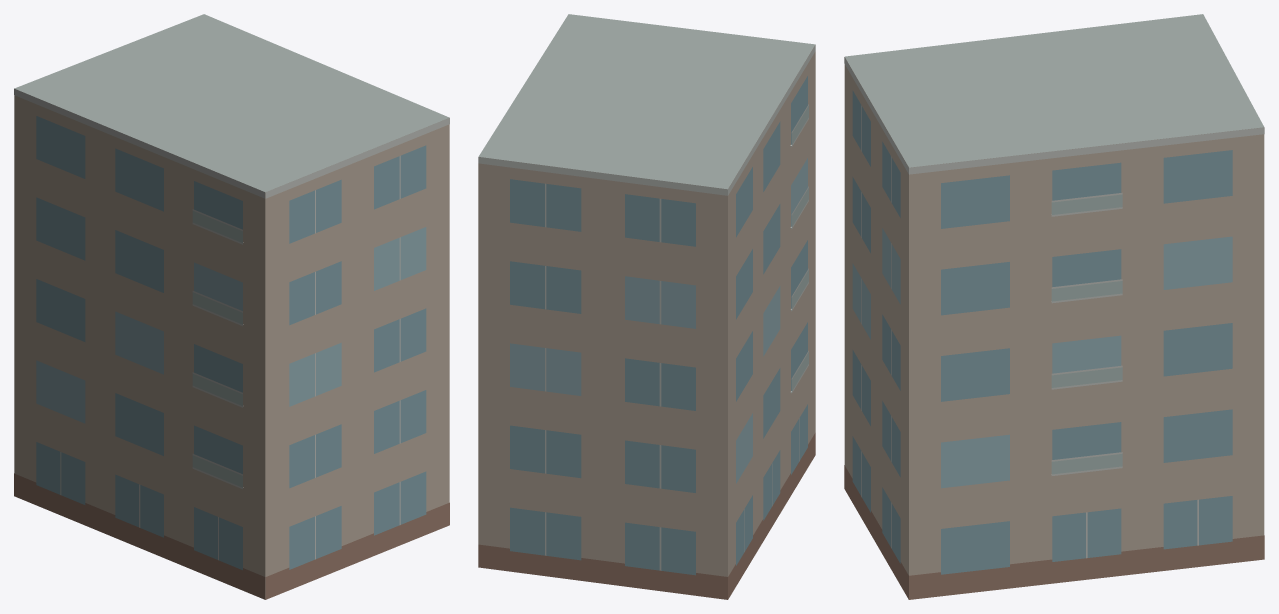
The model's file is survey-upis-32640674.glb.
3 views of the same model, side by side, from view 1: azimuth 30°, elevation 25°; view 2: azimuth 150°, elevation 25°; view 3: azimuth 270°, elevation 25° (orthographic). The views are drawn at different scales.
Visible parts, largest first — view 1: survey-upis-32640674.tmp; view 2: survey-upis-32640674.tmp; view 3: survey-upis-32640674.tmp.
Part boxes in pixels (x1=…): survey-upis-32640674.tmp: x1=14, y1=14, x2=449, y2=599; survey-upis-32640674.tmp: x1=478, y1=14, x2=815, y2=599; survey-upis-32640674.tmp: x1=844, y1=14, x2=1264, y2=599.
Size of the model in its own units: 11.6 by 15.2 by 13.4.
